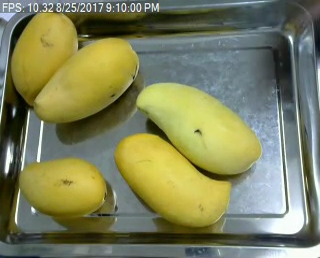Mango: (135, 79, 263, 179), (113, 131, 230, 228), (30, 37, 141, 124), (10, 7, 76, 113), (18, 157, 105, 220)
